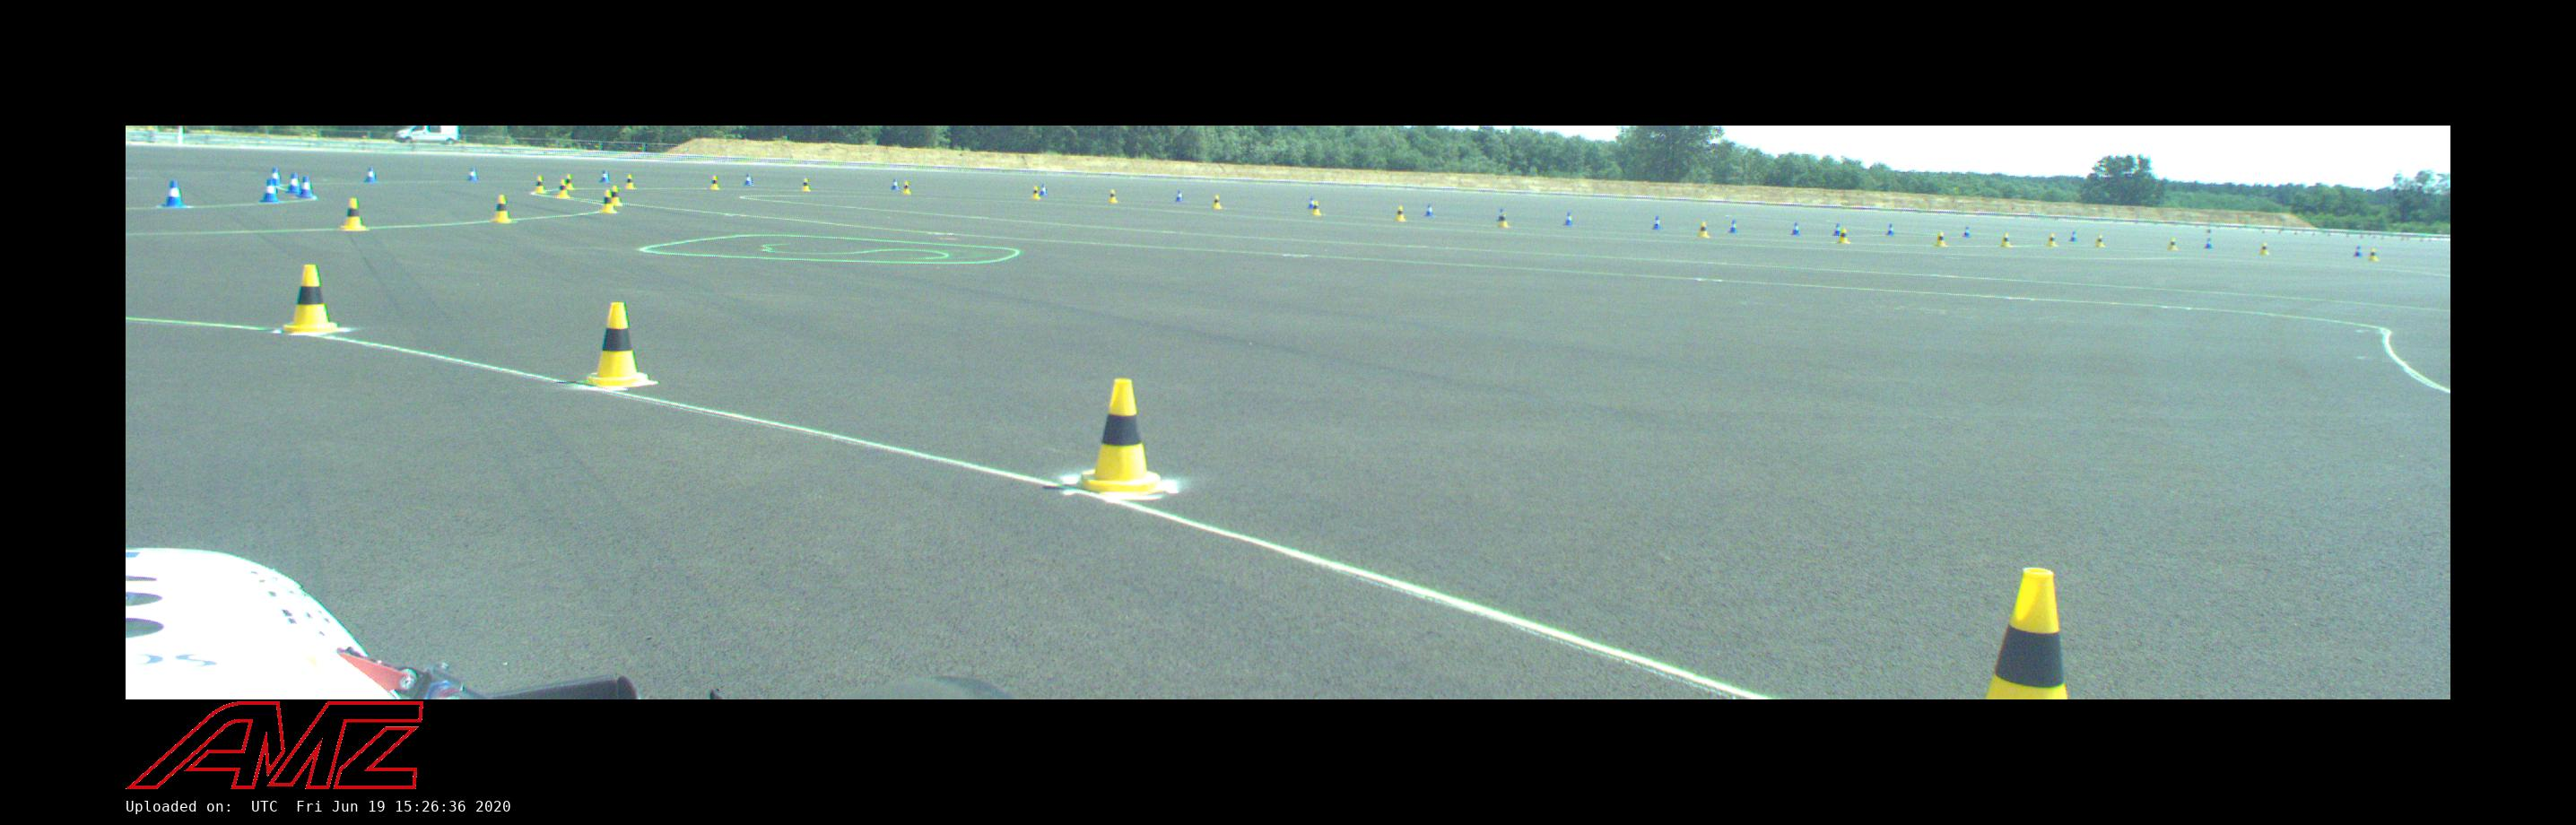blue_cone: (161, 181, 186, 209), (296, 176, 317, 199), (260, 179, 279, 202), (286, 173, 299, 192), (271, 168, 283, 187), (467, 166, 480, 181), (365, 168, 376, 182), (1791, 222, 1801, 237), (600, 171, 611, 182), (1728, 220, 1738, 233), (1564, 212, 1574, 225), (1424, 204, 1434, 217), (1175, 191, 1184, 202), (890, 179, 900, 191), (1653, 217, 1661, 230), (1832, 224, 1840, 237), (2203, 238, 2213, 248), (2353, 247, 2362, 256), (744, 174, 752, 186), (1886, 224, 1894, 235), (1040, 184, 1048, 196), (1497, 209, 1503, 222), (1963, 227, 1970, 237), (2070, 232, 2077, 242), (1308, 197, 1313, 209)
yellow_cone: (1985, 567, 2067, 700), (1071, 380, 1165, 496), (582, 302, 659, 386), (278, 265, 343, 334), (340, 199, 370, 230), (491, 194, 513, 222), (601, 189, 618, 212), (555, 179, 572, 199), (534, 176, 545, 194), (611, 186, 621, 205), (1697, 222, 1709, 238), (1935, 232, 1947, 247), (1838, 228, 1850, 243), (624, 174, 636, 189), (1395, 207, 1406, 220), (1107, 189, 1119, 202), (1498, 212, 1508, 227), (567, 174, 575, 191), (2001, 233, 2011, 247), (902, 181, 912, 194), (1212, 196, 1222, 209), (710, 176, 720, 189), (2047, 233, 2057, 247), (1313, 200, 1321, 215), (2095, 235, 2105, 247), (2259, 243, 2269, 255), (1032, 186, 1040, 199), (2169, 238, 2177, 250), (802, 177, 808, 191), (2369, 250, 2377, 260)
